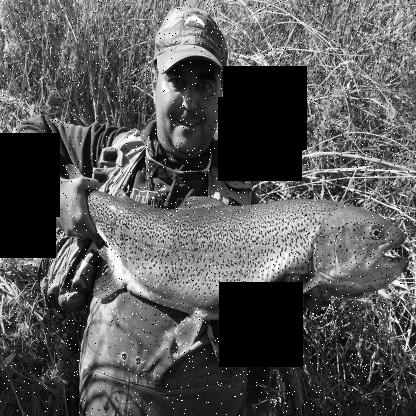fish: (62, 158, 406, 348)
